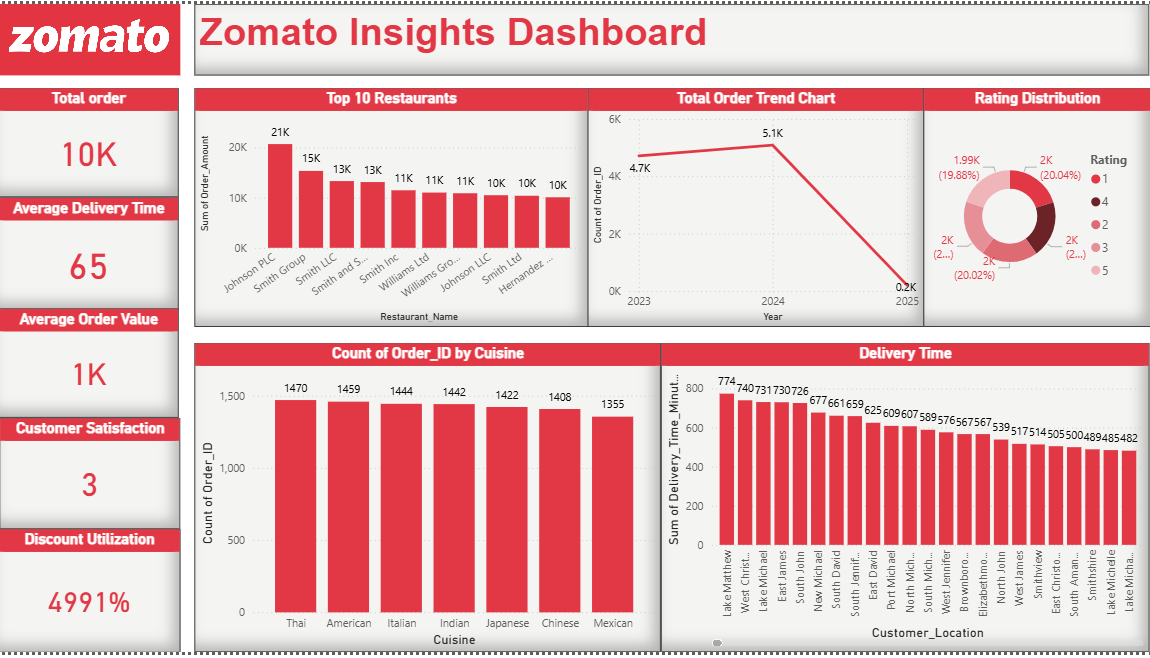

What the dashboard file says about the page in this screenshot:
{"tool":"powerbi","page":{"name":"Page 1","canvas":[1280,720],"ordinal":0},"visuals":[{"type":"card","title":"Total order","fields":{"Values":["Count(Sheet1.Order_ID)"]},"box":[0,93.9,200.8,121.4],"z":0},{"type":"card","title":"Average Delivery Time","fields":{"Values":["Avg(Sheet1.Delivery_Time_Minutes)"]},"box":[0,215.4,200.8,124.7],"z":1000},{"type":"card","title":"Average Order Value","fields":{"Values":["Avg(Sheet1.Order_Amount)"]},"box":[0,338.4,200.8,121.4],"z":2000},{"type":"card","title":"Customer Satisfaction","fields":{"Values":["Avg(Sheet1.Rating)"]},"box":[1.6,459.9,200.8,123.1],"z":3000},{"type":"card","title":"Discount Utilization","fields":{"Values":["Sheet1.Discount Utilization (%)"]},"box":[0,582.9,202.4,137.6],"z":4000},{"type":"lineChart","title":"Total Order Trend Chart","fields":{"Category":["Sheet1.Order_Date.Variation.Date Hierarchy.Year"],"Y":["CountNonNull(Sheet1.Order_ID)"]},"box":[654.2,93.9,374,265.6],"z":5000},{"type":"columnChart","title":"Delivery Time","fields":{"Category":["Sheet1.Customer_Location"],"Y":["Sum(Sheet1.Delivery_Time_Minutes)"]},"box":[736.7,376.7,542.4,343.3],"z":6000},{"type":"columnChart","title":"Top 10 Restaurants","fields":{"Category":["Sheet1.Restaurant_Name"],"Y":["Sum(Sheet1.Order_Amount)"]},"box":[218.6,93.9,437.2,265.6],"z":7000},{"type":"donutChart","title":"Rating Distribution","fields":{"Category":["Sheet1.Rating"],"Y":["CountNonNull(Sheet1.Order_ID)"]},"box":[1028.2,93.9,252.6,265.6],"z":8000},{"type":"columnChart","fields":{"Category":["Sheet1.Cuisine"],"Y":["CountNonNull(Sheet1.Order_ID)"]},"box":[218.6,377.3,518.2,343.3],"z":9000},{"type":"textbox","box":[218.6,0,1060.6,79.3],"z":10000},{"type":"image","box":[0,0,202.4,79.3],"z":10001}]}

Visuals, with their boxes in screenshot pixels (x1, y1, x2, y2), scaled from the page's 1280x720 canvas onto the 1150x658 screenshot:
"Total order" card: <region>0, 86, 180, 197</region>
"Average Delivery Time" card: <region>0, 197, 180, 311</region>
"Average Order Value" card: <region>0, 309, 180, 420</region>
"Customer Satisfaction" card: <region>1, 420, 182, 533</region>
"Discount Utilization" card: <region>0, 533, 182, 657</region>
"Total Order Trend Chart" lineChart: <region>588, 86, 924, 329</region>
"Delivery Time" columnChart: <region>662, 344, 1149, 657</region>
"Top 10 Restaurants" columnChart: <region>196, 86, 589, 329</region>
"Rating Distribution" donutChart: <region>924, 86, 1149, 329</region>
columnChart - Sheet1.Cuisine x CountNonNull(Sheet1.Order_ID): <region>196, 345, 662, 657</region>
textbox: <region>196, 0, 1149, 72</region>
image: <region>0, 0, 182, 72</region>
